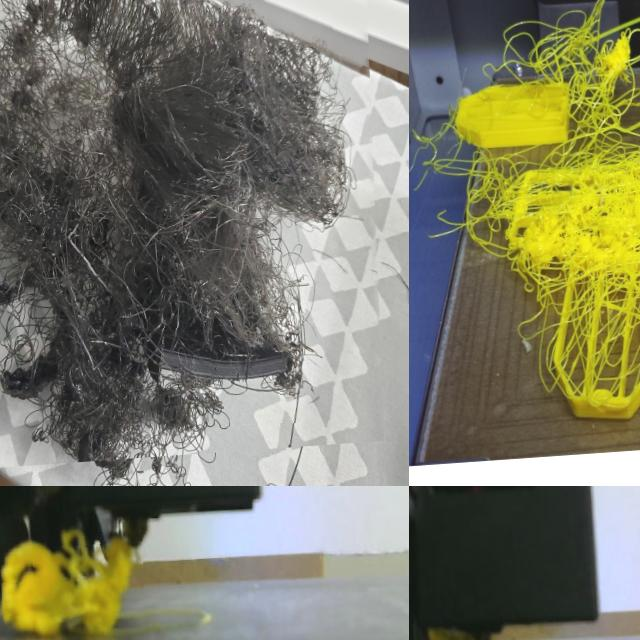spaghetti: (0, 0, 399, 472), (0, 521, 149, 640), (430, 622, 504, 640)
